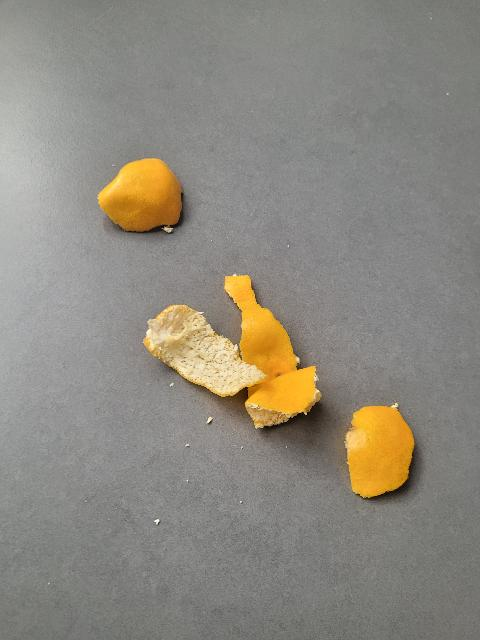Organik: (219, 272, 324, 426), (146, 300, 264, 411), (98, 152, 186, 238), (344, 404, 420, 502)
